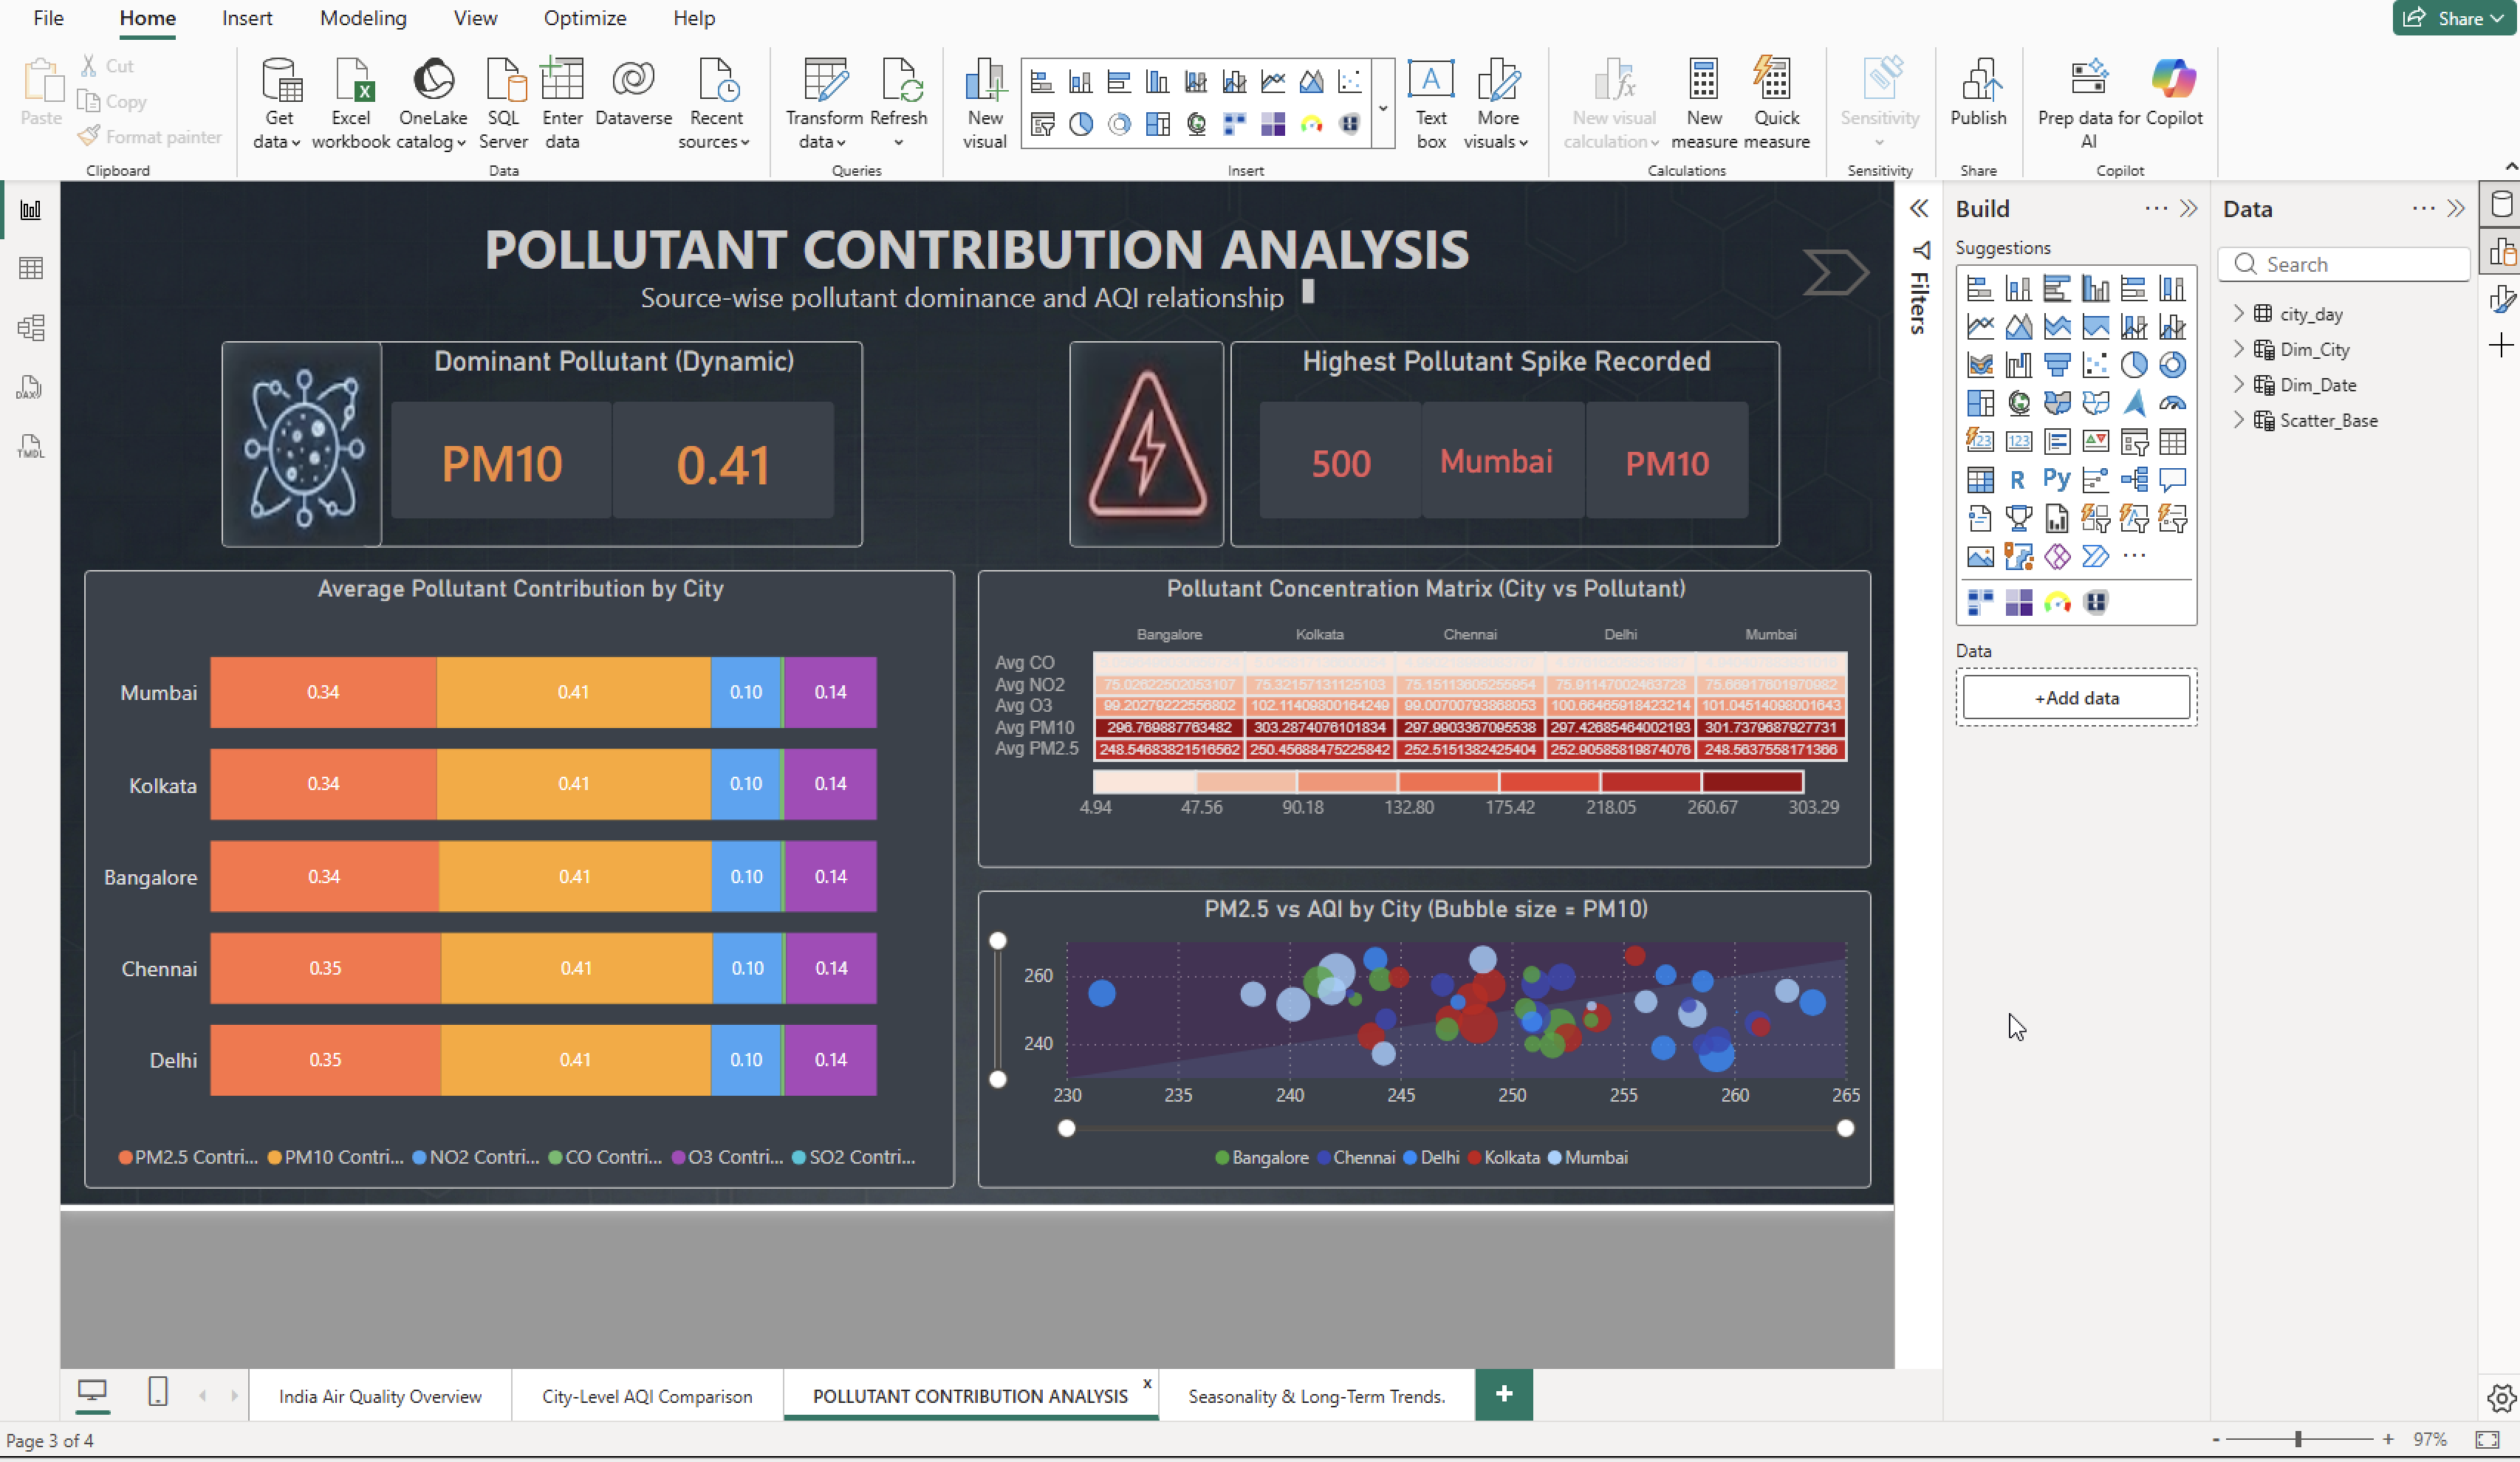

The dashboard page shown, as its layout file describes it:
{"tool":"powerbi","page":{"name":"POLLUTANT CONTRIBUTION ANALYSIS","canvas":[1280,720],"ordinal":2},"visuals":[{"type":"textbox","box":[160,16,960,64],"z":0},{"type":"cardVisual","title":"Dominant Pollutant (Dynamic)","fields":{"Data":["city_day.Dominant Pollutant","city_day.Dominant Pollutant %"]},"box":[210,112,350,144],"z":0,"group":"g1"},{"type":"cardVisual","title":"Highest Pollutant Spike Recorded","fields":{"Data":["city_day.Highest AQI","city_day.Highest AQI City","city_day.Highest AQI Pollutant"]},"box":[816,112,384,144],"z":0,"group":"g2"},{"type":"image","box":[112,112,112,144],"z":1000,"group":"g1"},{"type":"group","id":"g1","title":"Group 1","box":[112,112,448,144],"z":1000},{"type":"image","box":[704,112,108.1,144],"z":1000,"group":"g2"},{"type":"group","id":"g2","title":"Group 1","box":[704,112,496,144],"z":2000},{"type":"textbox","box":[400,64,480,32],"z":3000},{"type":"barChart","title":"Average Pollutant Contribution by City\n","fields":{"Category":["Dim_City.City"],"Y":["city_day.PM2.5 Contribution %","city_day.PM10 Contribution %","city_day.NO2 Contribution %","city_day.CO Contribution %","city_day.O3 Contribution %","city_day.SO2 Contribution %"]},"box":[16,272,608,432],"z":4000},{"type":"TableHeatMap1443716069308","title":"Pollutant Concentration Matrix (City vs Pollutant)\n","fields":{"Y":["city_day.Avg CO","city_day.Avg NO2","city_day.Avg O3","city_day.Avg PM10","city_day.Avg PM2.5"],"Category":["Dim_City.City"]},"box":[640,272,624,208],"z":5000},{"type":"scatterChart","title":"PM2.5 vs AQI by City (Bubble size = PM10)","fields":{"Series":["Scatter_Base.City"],"Size":["Sum(Scatter_Base.Avg_PM10)"],"X":["Scatter_Base.Avg_PM25"],"Y":["Scatter_Base.Avg_AQI"]},"box":[640,496,624,208],"z":6000},{"type":"actionButton","box":[1216,48,48,32],"z":7000}]}

Visuals, with their boxes on the page's 1280x720 design canvas (x1, y1, x2, y2). These are canvas units, not pixel positions in the 2520x1462 screenshot, which may show the page scaled, cropped or inside an application window:
textbox: (160,16,1120,80)
"Dominant Pollutant (Dynamic)" cardVisual: (210,112,560,256)
"Highest Pollutant Spike Recorded" cardVisual: (816,112,1200,256)
image: (112,112,224,256)
"Group 1" group: (112,112,560,256)
image: (704,112,812,256)
"Group 1" group: (704,112,1200,256)
textbox: (400,64,880,96)
"Average Pollutant Contribution by City
" barChart: (16,272,624,704)
"Pollutant Concentration Matrix (City vs Pollutant)
" TableHeatMap1443716069308: (640,272,1264,480)
"PM2.5 vs AQI by City (Bubble size = PM10)" scatterChart: (640,496,1264,704)
actionButton: (1216,48,1264,80)
